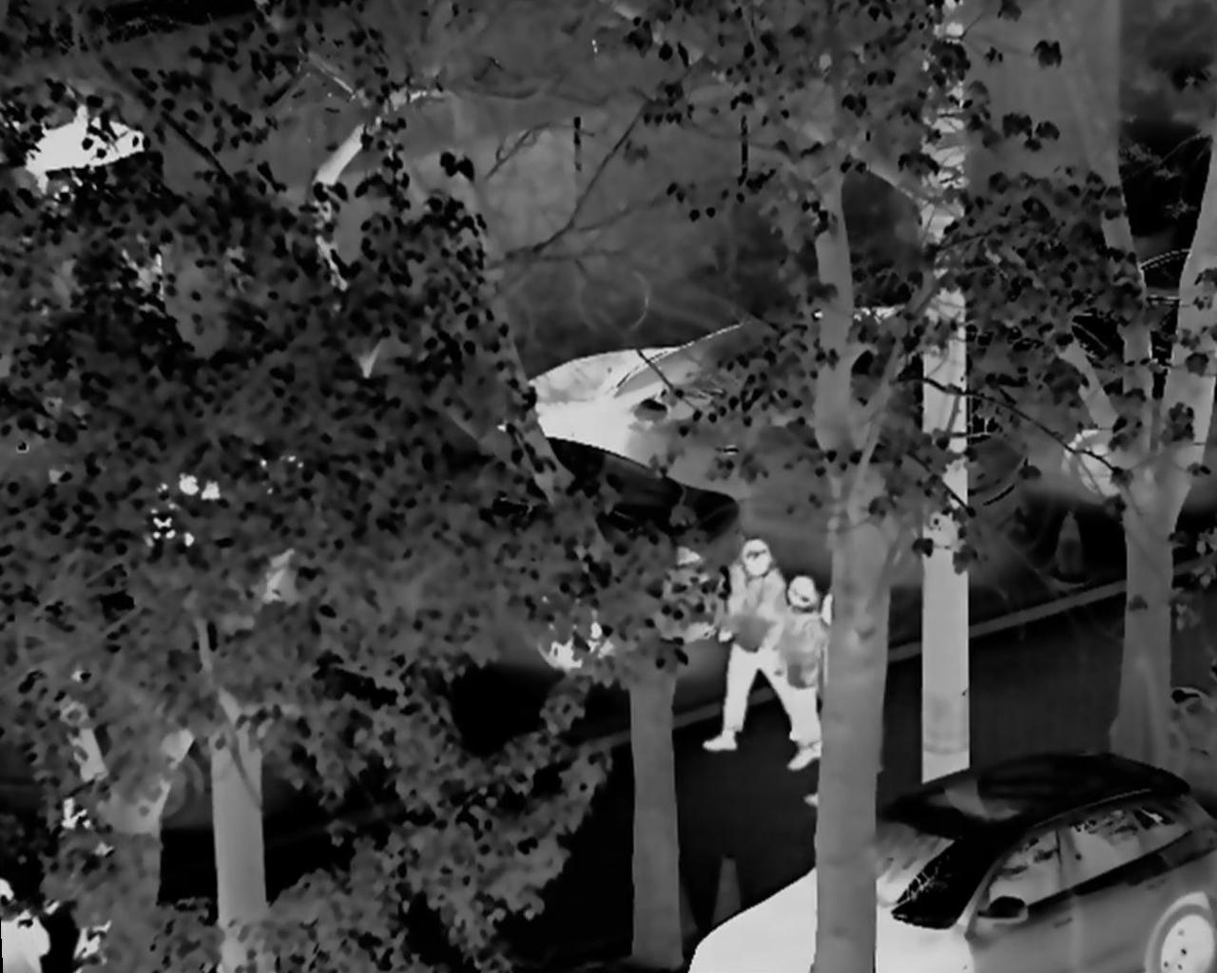person: (697, 530, 795, 752), (771, 581, 835, 774)
